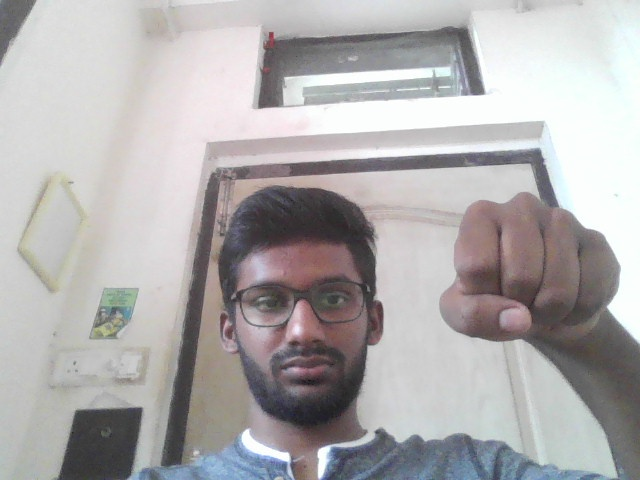No: (435, 186, 625, 356)
